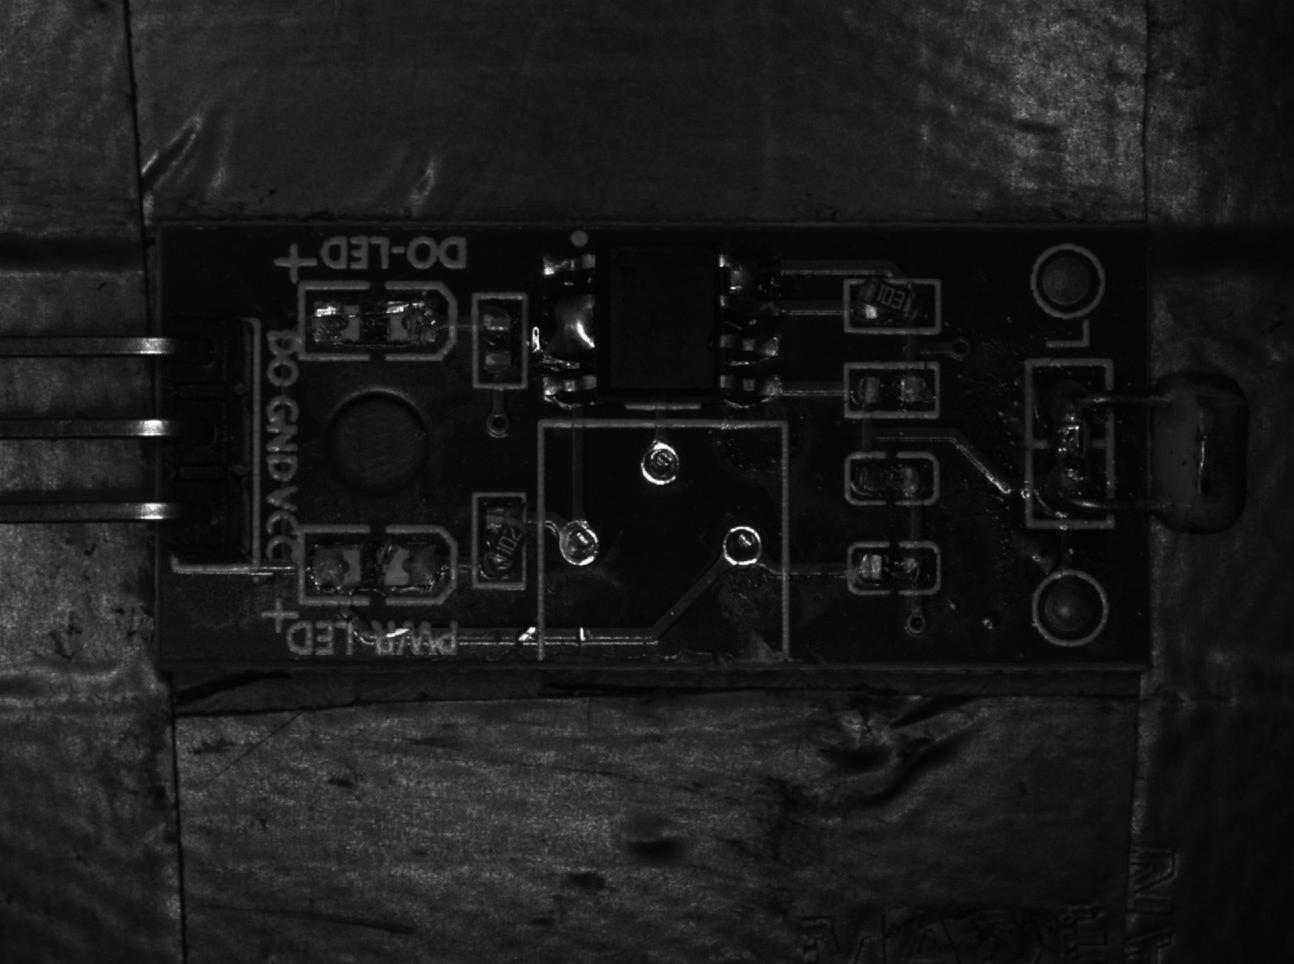bridge: (1027, 363, 1113, 529), (536, 290, 596, 370), (721, 255, 784, 323)
lifted: (471, 493, 530, 592), (844, 278, 940, 335)
miss: (844, 454, 941, 509), (844, 541, 944, 594), (844, 369, 943, 418), (475, 298, 523, 391)
